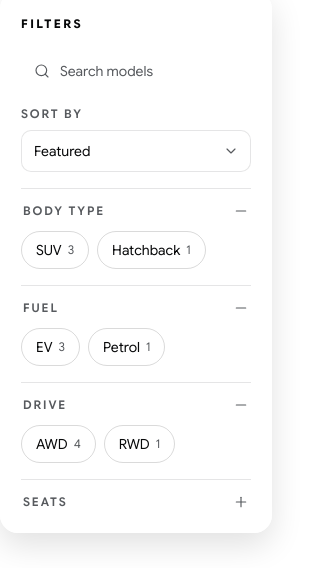
FilterPanel › shows Clear all only when something is active, and it clears filters and search
Expected: the button "Clear all" is not shown
Click the button "EV 3" at (50, 347), box [21,328,80,366]
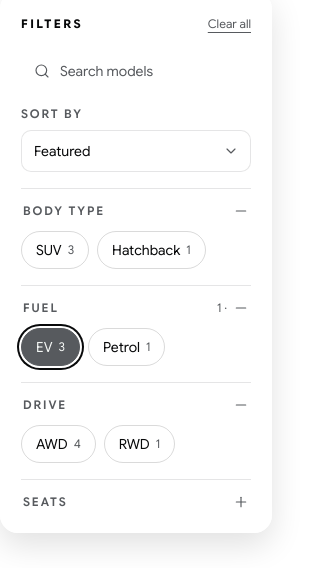
Type "gt" into the search field at (149, 71), box [60,61,238,81]
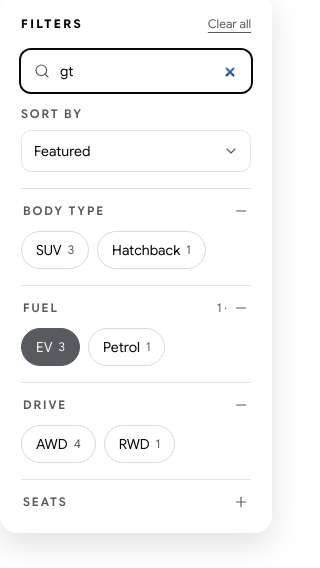
Click the button "Clear all" at (229, 24), box [208,16,251,32]
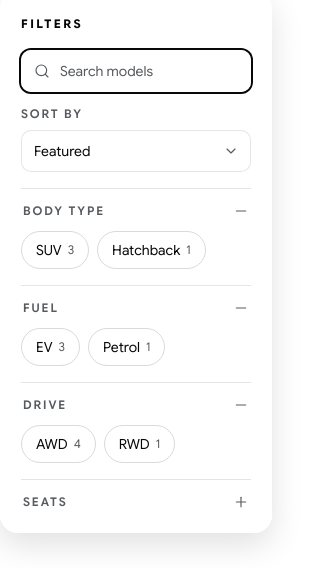
Expected: the search field is empty, [60,61,238,81]
Expected: the button "Clear all" is gone
